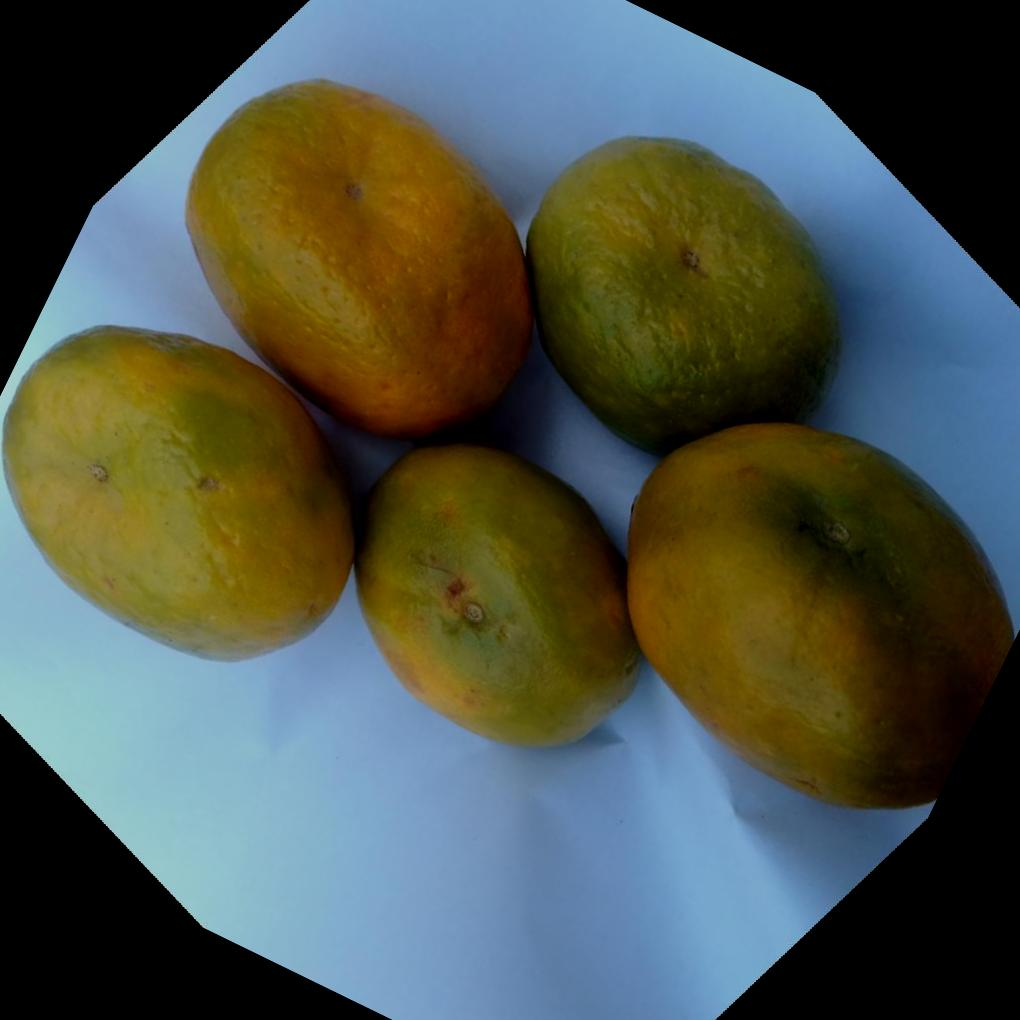FreshGuava: (2, 75, 1018, 808)
